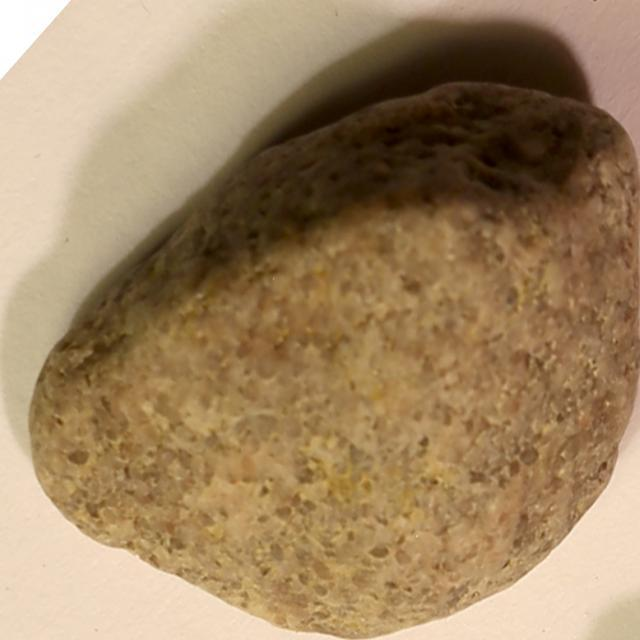stone: (22, 80, 636, 640)
